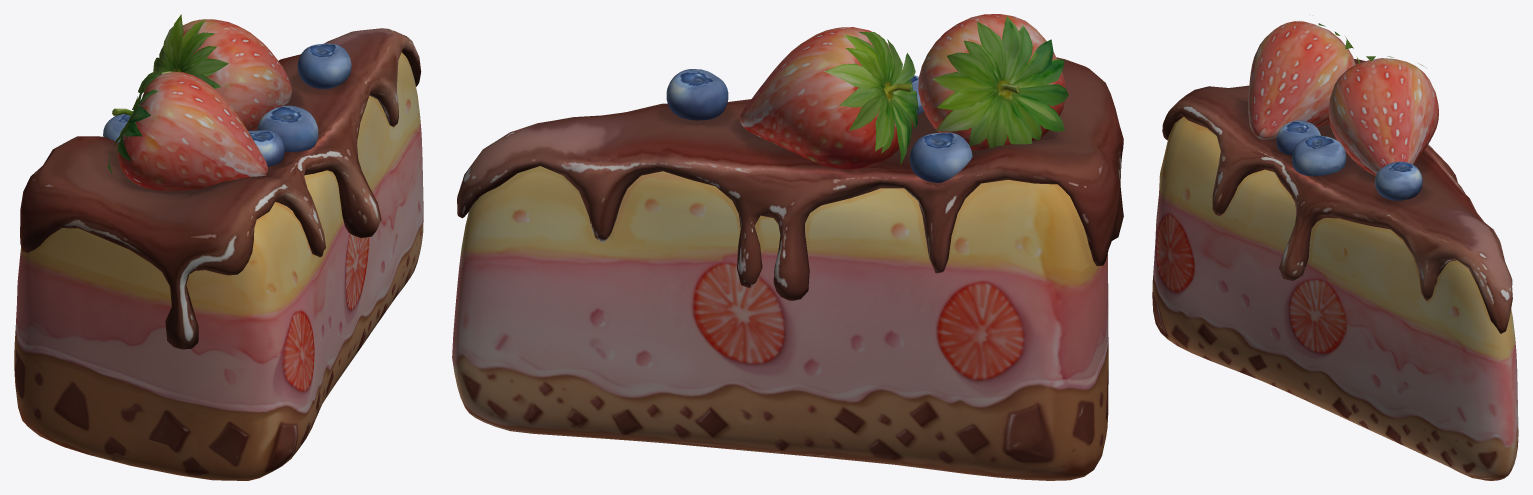
The model's file is blueberrycake.glb.
3 views of the same model, side by side, from view 1: azimuth 30°, elevation 25°; view 2: azimuth 150°, elevation 25°; view 3: azimuth 270°, elevation 25° (orthographic). The views are drawn at different scales.
Parts seen in each view (by area): view 1: cake001, frosting001, berries001, strawberry001, leaves003, leaves004, blueberry001.001; view 2: cake001, frosting001, strawberry001, leaves004, berries001, leaves003, blueberry001.001; view 3: cake001, frosting001, berries001, strawberry001.
Boxes of the visible parts, x1,y1,x2,y2 form: cake001: (14,52,423,480); frosting001: (20,28,421,349); berries001: (118,43,351,191); strawberry001: (183,19,291,130); leaves003: (138,14,228,92); leaves004: (108,68,170,174); blueberry001.001: (103,114,130,142); cake001: (452,166,1108,480); frosting001: (457,57,1123,300); strawberry001: (739,27,913,169); leaves004: (933,16,1068,148); berries001: (666,14,1065,150); leaves003: (824,32,918,164); blueberry001.001: (910,132,972,182); cake001: (1152,116,1518,480); frosting001: (1162,59,1512,333); berries001: (1248,21,1422,200); strawberry001: (1328,58,1438,175).
Bounding box in the file's own units: 9.55 × 6.9 × 7.1.
1 material, 1 textured.
